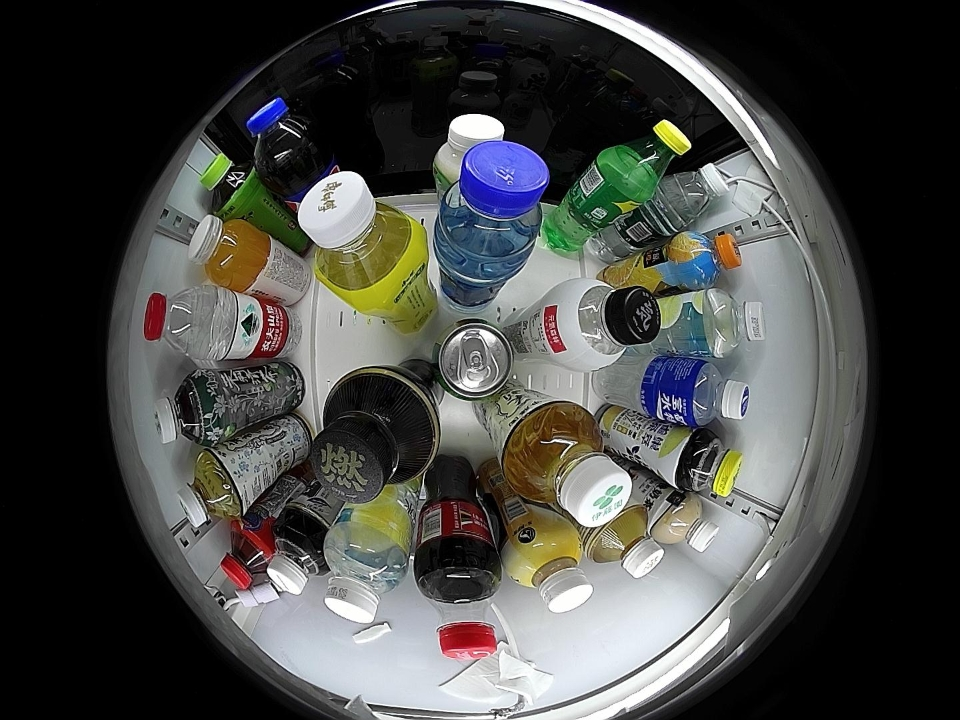asamu: (508, 530, 592, 615)
baicha: (504, 403, 632, 527), (176, 450, 245, 528)
baishikele-2: (245, 95, 321, 178)
baokuangli: (677, 360, 751, 427)
binghongcha: (218, 521, 275, 590)
bingtangxueli: (299, 172, 426, 305)
chacui: (677, 430, 744, 498)
guolicheng: (673, 230, 743, 290)
kele-b: (417, 557, 504, 661)
maidong: (437, 141, 550, 266)
moliqingcha: (153, 372, 225, 446)
nongfushanquan: (143, 287, 218, 362)
qinningshui: (323, 529, 408, 626), (697, 288, 768, 358)
quchenshixiangcao: (432, 318, 515, 403)
rancha-1: (310, 369, 440, 502)
rancha-2: (585, 506, 665, 579)
weic: (187, 215, 269, 291)
wuhounaicha: (655, 493, 720, 553)
wulongcha: (267, 522, 327, 597)
xuebi-b: (612, 119, 691, 194)
yibao: (664, 162, 730, 227)
yitengyuan: (200, 150, 260, 217)
yousuanru: (433, 114, 504, 181)
yuanqishui: (546, 280, 661, 370)
